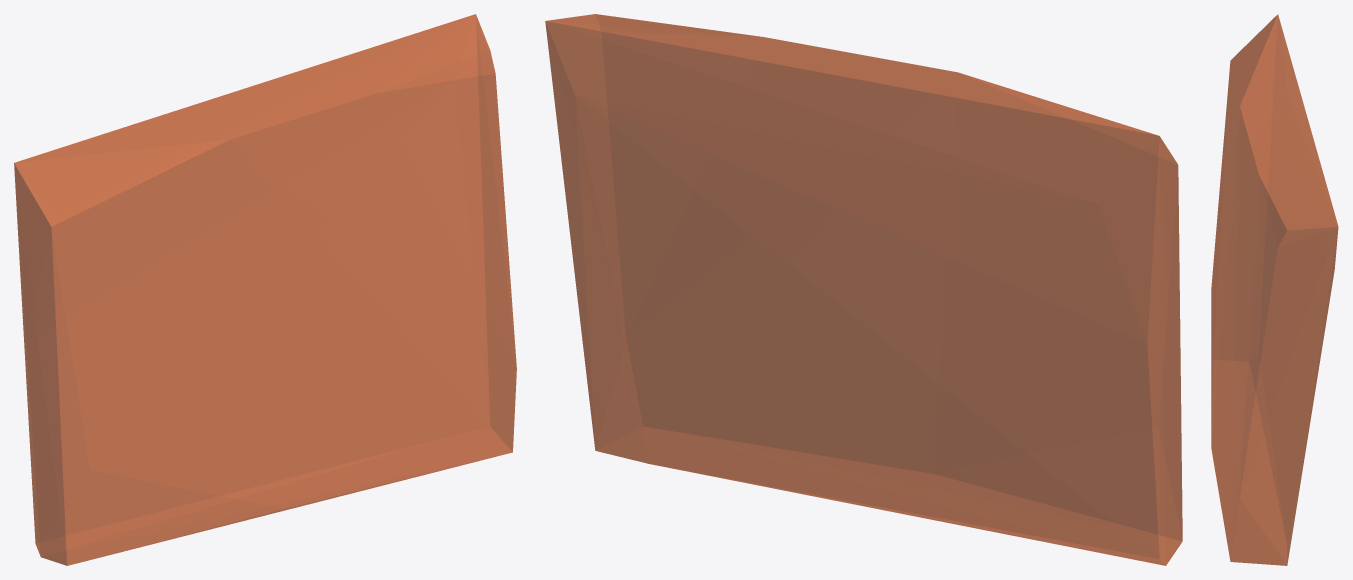
The picture shows the model from 3 angles, left to right: view 1: azimuth 30°, elevation 25°; view 2: azimuth 150°, elevation 25°; view 3: azimuth 270°, elevation 25°; orthographic projection. The views are drawn at different scales.
Visible parts, largest first — view 1: Shape_IndexedFaceSet.131_Shape_IndexedFaceSet.557; view 2: Shape_IndexedFaceSet.131_Shape_IndexedFaceSet.557; view 3: Shape_IndexedFaceSet.131_Shape_IndexedFaceSet.557.
Part boxes in pixels (x1=…): Shape_IndexedFaceSet.131_Shape_IndexedFaceSet.557: x1=14, y1=14, x2=516, y2=565; Shape_IndexedFaceSet.131_Shape_IndexedFaceSet.557: x1=545, y1=14, x2=1182, y2=565; Shape_IndexedFaceSet.131_Shape_IndexedFaceSet.557: x1=1211, y1=14, x2=1338, y2=565.
Bounding box in the file's own units: 0.3975 × 0.2973 × 0.0991.
